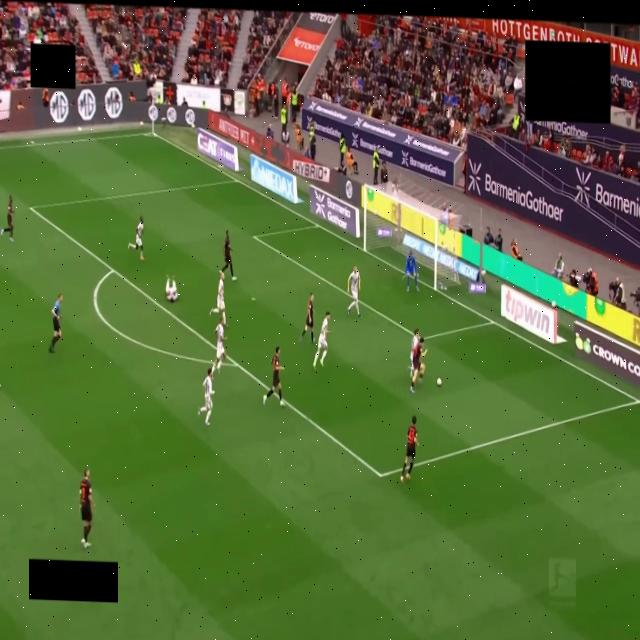ball: (437, 378, 441, 386)
player: (263, 346, 284, 406), (401, 415, 418, 482), (80, 469, 94, 548), (313, 312, 330, 368), (198, 368, 214, 426), (210, 272, 227, 326), (411, 338, 426, 392), (300, 293, 314, 344), (128, 216, 144, 260), (222, 231, 236, 281), (348, 267, 361, 316), (214, 318, 226, 371), (0, 195, 13, 241), (405, 250, 418, 291), (409, 328, 419, 375), (166, 278, 178, 302)
referee: (49, 294, 63, 354)
